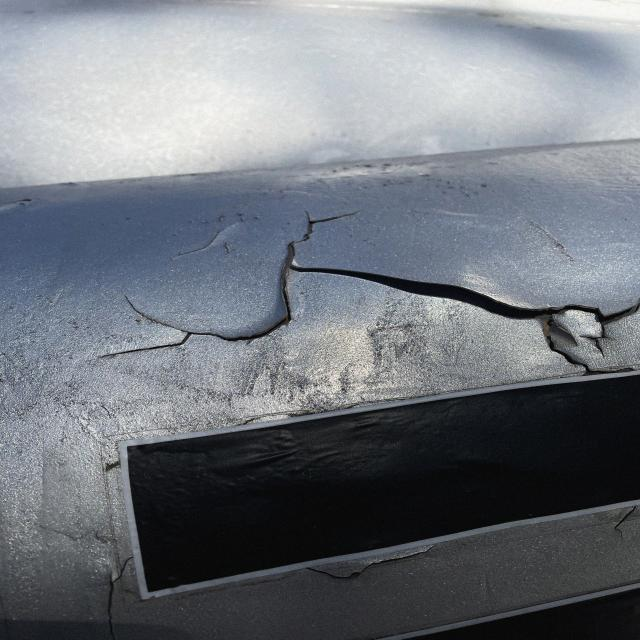crack: (297, 254, 640, 353), (114, 292, 285, 362), (234, 203, 361, 246)
